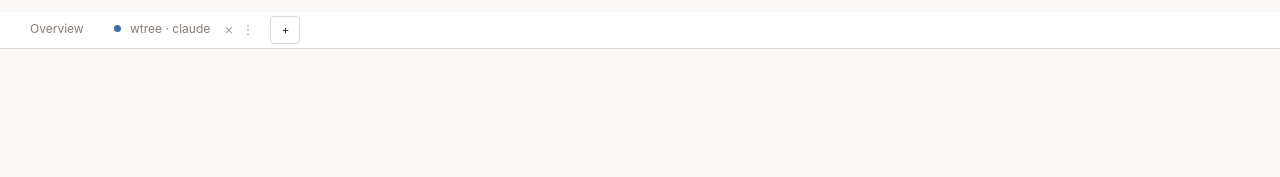
Scenario: AgentSessionTabsComponent open-the-ide (#628, #782) › remote SSH (#949) › names the remote entry in the menu item
Click the button with class "tab-menu-trigger": (251, 29) [242,20,260,38]
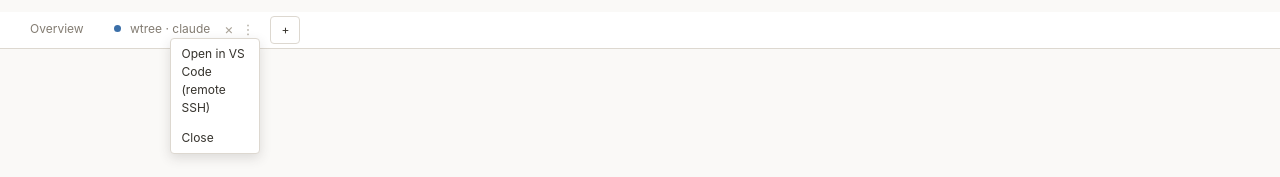
Check: the menu item with class "tab-open-ide" reads "Open in VS Code (remote SSH)", box [172,38,260,122]
